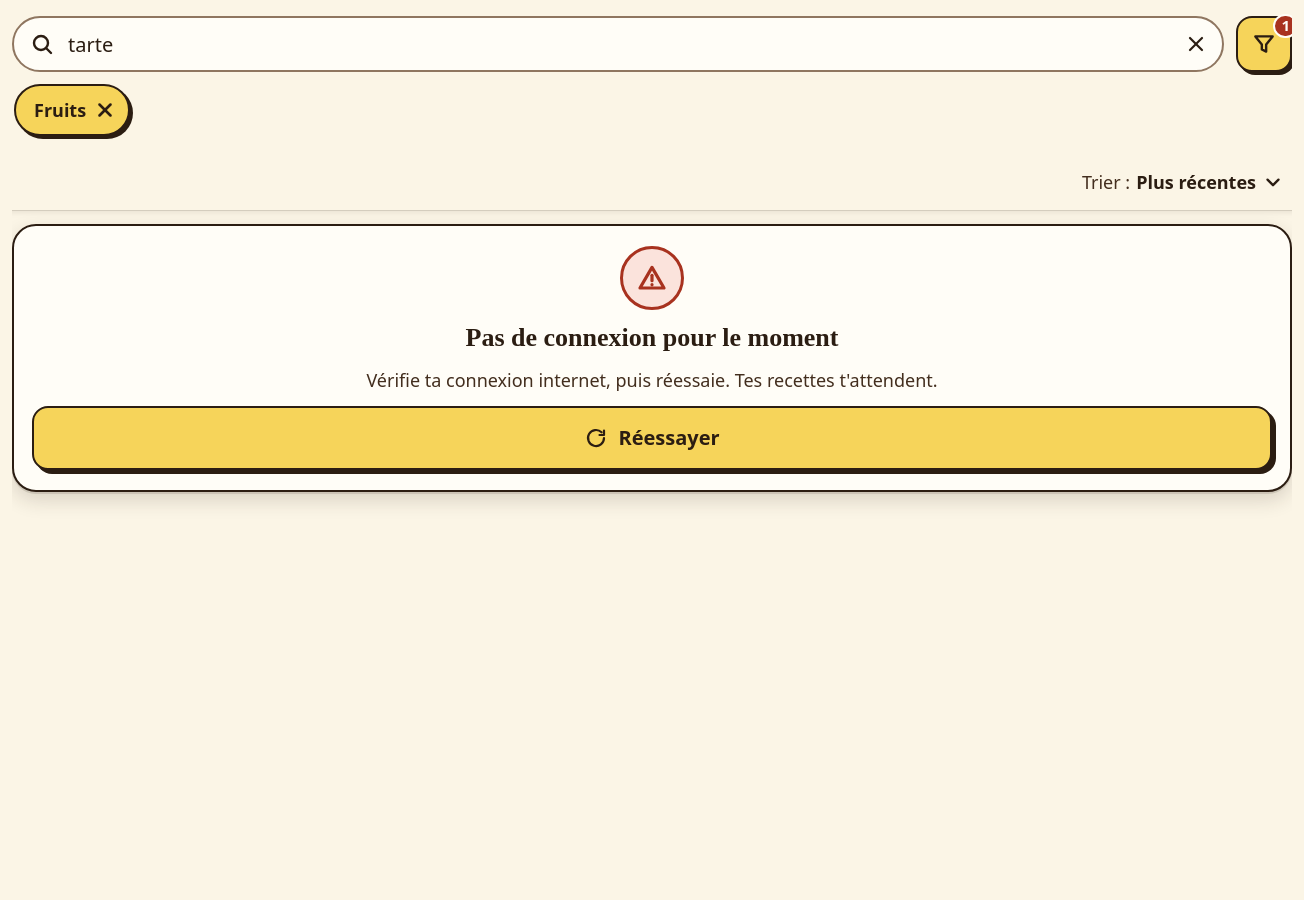
Test: SearchScreen on a phone › the states › says there is no connection, keeping the field and the filters, and searches again on demand
Expected: the heading "Pas de connexion pour le moment" is shown, [466,322,838,354]
Expected: the search field named "Chercher une recette" holds "tarte", [12,16,1224,72]
Click the button "Réessayer". click: click(652, 438)
box: [32,406,1272,470]
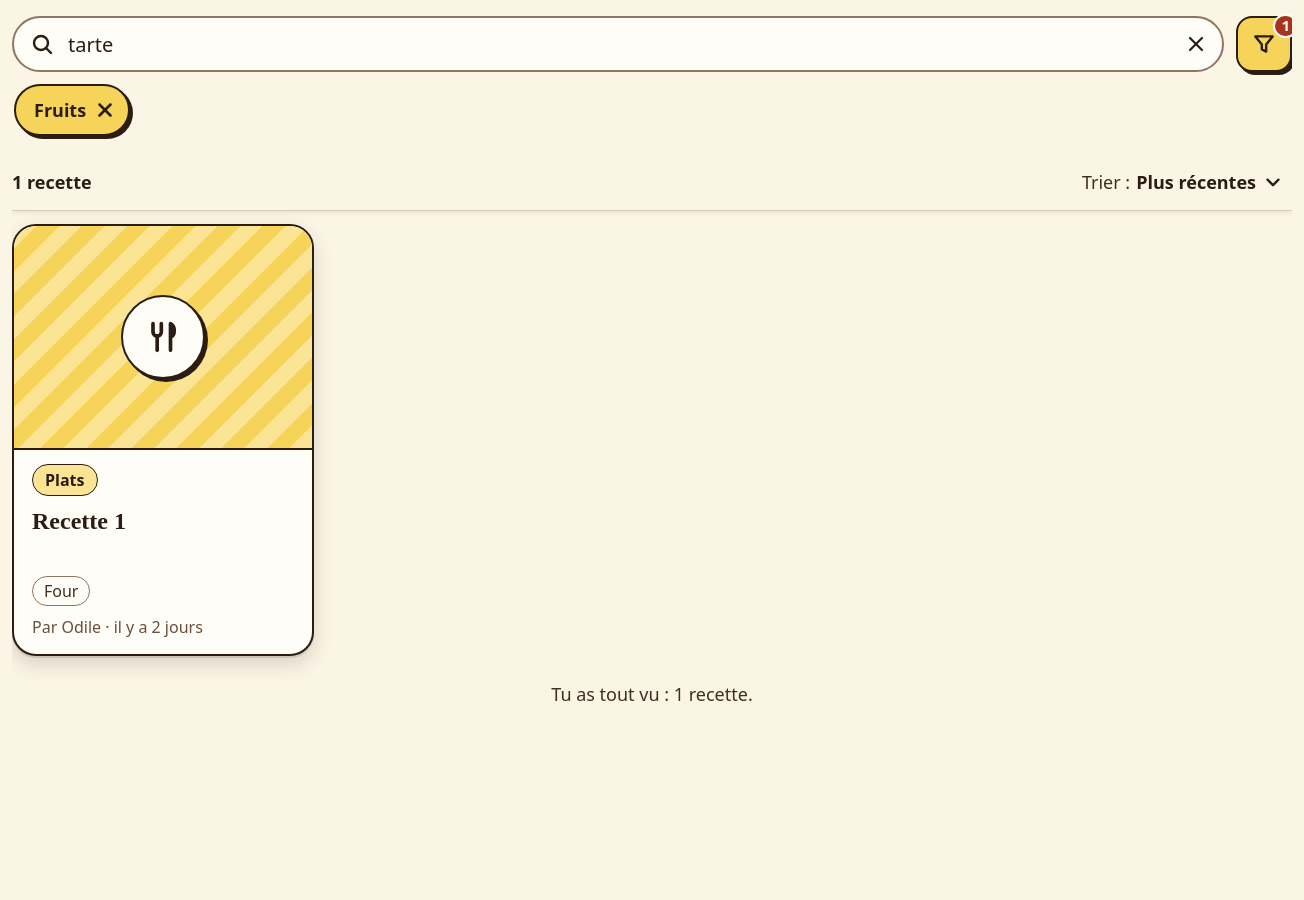
Expected: the link "Recette 1" is shown, [12,224,314,656]
